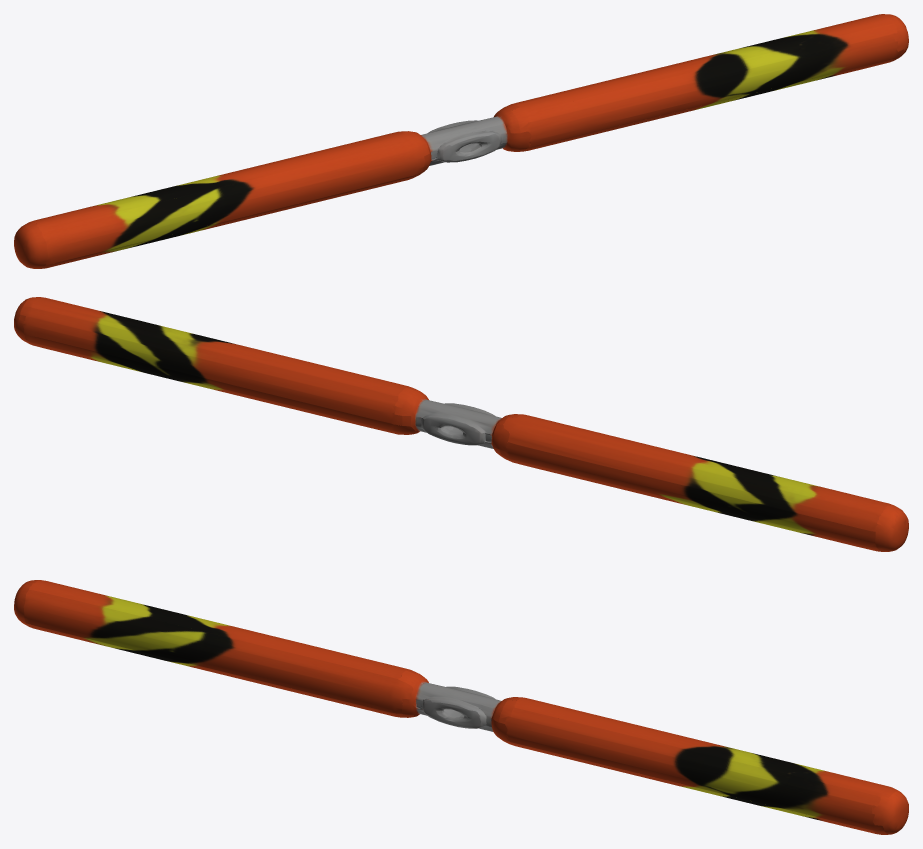
The model's file is PROP_C1_SWEEPER_game.glb.
3 renders of one model, top to bottom at view 1: azimuth 30°, elevation 25°; view 2: azimuth 150°, elevation 25°; view 3: azimuth 330°, elevation 25°, orthographic.
Parts seen in each view (by area): view 1: PROP_C1_SWEEPER; view 2: PROP_C1_SWEEPER; view 3: PROP_C1_SWEEPER.
Boxes of the visible parts, x1,y1,x2,y2 form: PROP_C1_SWEEPER: (14,14,908,268); PROP_C1_SWEEPER: (14,297,908,551); PROP_C1_SWEEPER: (14,580,908,834).
Bounding box in the file's own units: 7.6 × 0.3604 × 0.3605.
Materials: 1 (1 with a texture image).
